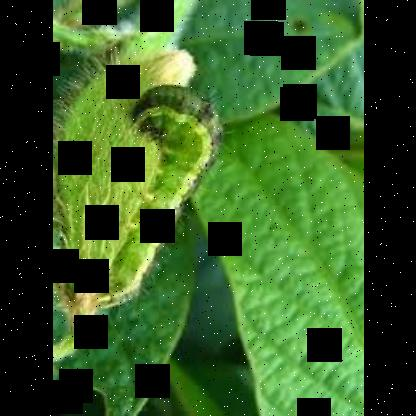oruga: (98, 78, 242, 310)
